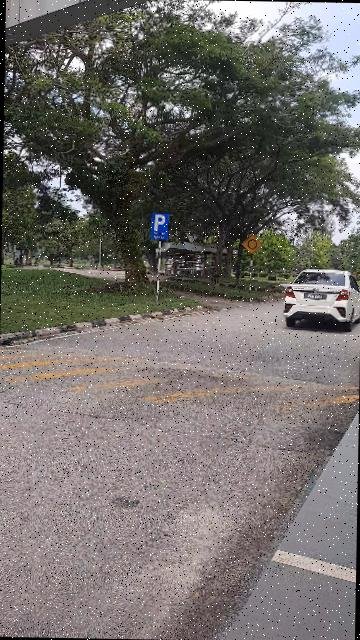License_Plate: (305, 294, 330, 302)
car: (279, 264, 360, 333)
